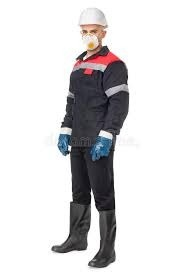helmet: (76, 5, 110, 30)
person with partial safety: (47, 5, 132, 271)
